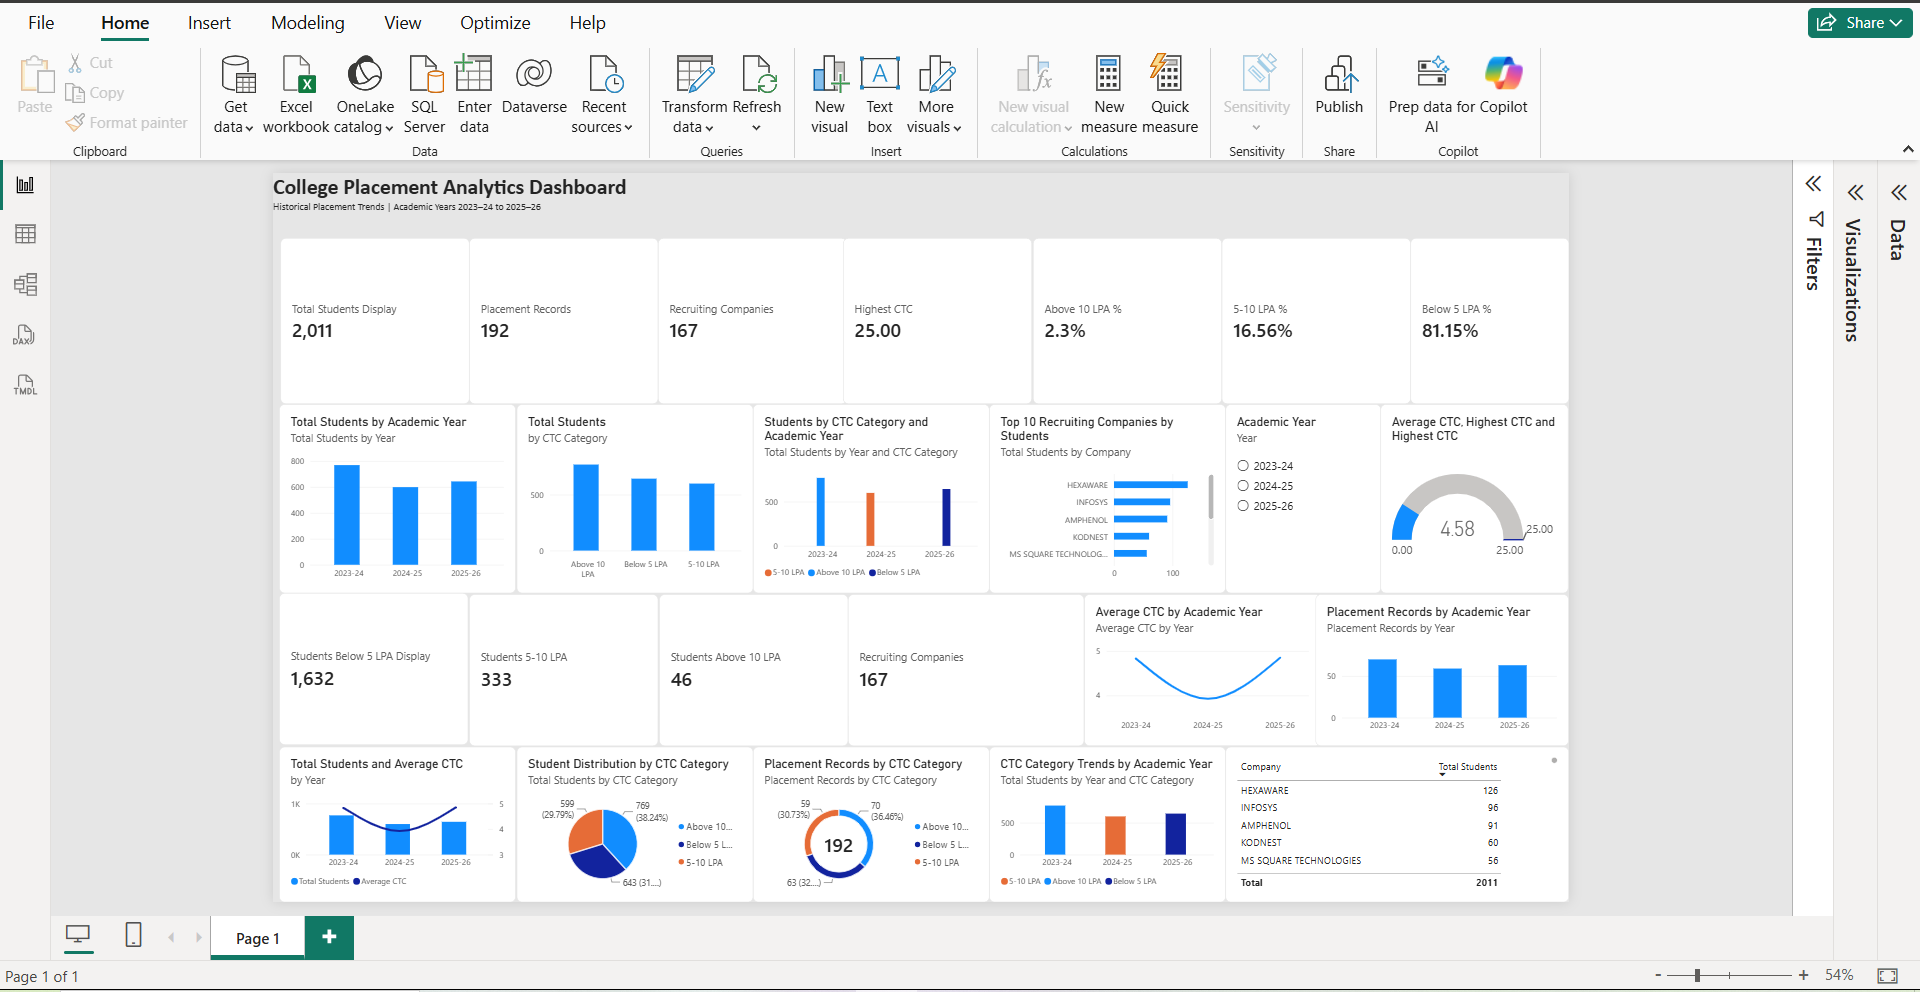

This screenshot's page, from the dashboard's own definition file:
{"tool":"powerbi","page":{"name":"Page 1","canvas":[1920,1080],"ordinal":0},"visuals":[{"type":"cardVisual","fields":{"Data":["Measures (2).Placement Records"]},"box":[290,96,280,246.7],"z":0},{"type":"cardVisual","fields":{"Data":["Measures (2).Recruiting Companies"]},"box":[570,96,280,246.7],"z":1000},{"type":"cardVisual","fields":{"Data":["Measures (2).Highest CTC"]},"box":[844.6,96.4,280,246.7],"z":2000},{"type":"cardVisual","fields":{"Data":["Measures (2).Above 10 LPA %"]},"box":[1125,96,280,246.7],"z":3000},{"type":"lineClusteredColumnComboChart","title":"Total Students by Academic Year","fields":{"Category":["DimAcademicYear.Year"],"Y":["Measures (2).Total Students"]},"box":[10,342.5,350,280],"z":4000},{"type":"clusteredColumnChart","fields":{"Category":["DimCTCCategory.CTC Category"],"Y":["Measures (2).Total Students"]},"box":[360.7,342,350,280],"z":5000},{"type":"clusteredColumnChart","title":"Students by CTC Category and Academic Year","fields":{"Category":["DimAcademicYear.Year"],"Series":["DimCTCCategory.CTC Category"],"Y":["Measures (2).Total Students"]},"box":[710.7,342,350,280],"z":6000},{"type":"clusteredBarChart","title":"Top 10 Recruiting Companies by Students","fields":{"Category":["DimCompany.Company"],"Y":["Measures (2).Total Students"]},"box":[1060.7,342.9,350,280],"z":7000},{"type":"listSlicer","title":"Academic Year","fields":{"Values":["DimAcademicYear.Year"]},"box":[1410.7,342.9,230.4,280.4],"z":8000},{"type":"cardVisual","fields":{"Data":["Measures (2).Students 5-10 LPA"]},"box":[291.1,623.2,280,225],"z":9000},{"type":"cardVisual","fields":{"Data":["Measures (2).Students Below 5 LPA Display"]},"box":[10,622.5,280,225],"z":10000},{"type":"cardVisual","fields":{"Data":["Measures (2).Total Students Display"]},"box":[10.7,96.4,280,246.7],"z":11000},{"type":"cardVisual","fields":{"Data":["Measures (2).Students Above 10 LPA"]},"box":[571.4,623.2,280,225],"z":12000},{"type":"cardVisual","fields":{"Data":["Measures (2).Below 5 LPA %"]},"box":[1685,96,235,246],"z":13000},{"type":"cardVisual","fields":{"Data":["Measures (2).5-10 LPA %"]},"box":[1405,96,280,246],"z":14000},{"type":"lineChart","title":"Average CTC by Academic Year","fields":{"Category":["DimAcademicYear.Year"],"Y":["Measures (2).Average CTC"]},"box":[1201.8,623.2,350,225],"z":15000},{"type":"clusteredColumnChart","title":"Placement Records by Academic Year","fields":{"Category":["DimAcademicYear.Year"],"Y":["Measures (2).Placement Records"]},"box":[1544.7,623.2,375,225],"z":16000},{"type":"lineClusteredColumnComboChart","fields":{"Category":["DimAcademicYear.Year"],"Y":["Measures (2).Total Students"],"Y2":["Measures (2).Average CTC"]},"box":[10,850,350,230],"z":17000},{"type":"pieChart","title":"Student Distribution by CTC Category","fields":{"Category":["DimCTCCategory.CTC Category"],"Y":["Measures (2).Total Students"]},"box":[360.7,850,350,230],"z":18000},{"type":"donutChart","title":"Placement Records by CTC Category","fields":{"Category":["DimCTCCategory.CTC Category"],"Y":["Measures (2).Placement Records"]},"box":[710.7,850,350,230],"z":19000},{"type":"ribbonChart","title":"CTC Category Trends by Academic Year","fields":{"Category":["DimAcademicYear.Year"],"Series":["DimCTCCategory.CTC Category"],"Y":["Measures (2).Total Students"]},"box":[1060.7,850,350,230],"z":20000},{"type":"textbox","box":[0,0,1690,95],"z":21000},{"type":"cardVisual","fields":{"Data":["Measures (2).Recruiting Companies"]},"box":[851.8,623.2,350,225],"z":21001},{"type":"tableEx","fields":{"Values":["DimCompany.Company","Measures (2).Total Students"]},"box":[1410.7,850,508.9,230.4],"z":21002},{"type":"gauge","title":"Average CTC vs Highest CTC","fields":{"Y":["Measures (2).Average CTC"],"TargetValue":["Measures (2).Highest CTC"],"MaxValue":["Measures (2).Highest CTC"]},"box":[1641.1,342.9,278.6,280.4],"z":21003}]}

Visuals, with their boxes on the page's 1920x1080 design canvas (x1, y1, x2, y2). These are canvas units, not pixel positions in the 1920x992 screenshot, which may show the page scaled, cropped or inside an application window:
cardVisual - Measures (2).Placement Records: detection(290, 96, 570, 343)
cardVisual - Measures (2).Recruiting Companies: detection(570, 96, 850, 343)
cardVisual - Measures (2).Highest CTC: detection(845, 96, 1125, 343)
cardVisual - Measures (2).Above 10 LPA %: detection(1125, 96, 1405, 343)
"Total Students by Academic Year" lineClusteredColumnComboChart: detection(10, 342, 360, 622)
clusteredColumnChart - DimCTCCategory.CTC Category x Measures (2).Total Students: detection(361, 342, 711, 622)
"Students by CTC Category and Academic Year" clusteredColumnChart: detection(711, 342, 1061, 622)
"Top 10 Recruiting Companies by Students" clusteredBarChart: detection(1061, 343, 1411, 623)
"Academic Year" listSlicer: detection(1411, 343, 1641, 623)
cardVisual - Measures (2).Students 5-10 LPA: detection(291, 623, 571, 848)
cardVisual - Measures (2).Students Below 5 LPA Display: detection(10, 622, 290, 848)
cardVisual - Measures (2).Total Students Display: detection(11, 96, 291, 343)
cardVisual - Measures (2).Students Above 10 LPA: detection(571, 623, 851, 848)
cardVisual - Measures (2).Below 5 LPA %: detection(1685, 96, 1920, 342)
cardVisual - Measures (2).5-10 LPA %: detection(1405, 96, 1685, 342)
"Average CTC by Academic Year" lineChart: detection(1202, 623, 1552, 848)
"Placement Records by Academic Year" clusteredColumnChart: detection(1545, 623, 1920, 848)
lineClusteredColumnComboChart - DimAcademicYear.Year x Measures (2).Total Students: detection(10, 850, 360, 1080)
"Student Distribution by CTC Category" pieChart: detection(361, 850, 711, 1080)
"Placement Records by CTC Category" donutChart: detection(711, 850, 1061, 1080)
"CTC Category Trends by Academic Year" ribbonChart: detection(1061, 850, 1411, 1080)
textbox: detection(0, 0, 1690, 95)
cardVisual - Measures (2).Recruiting Companies: detection(852, 623, 1202, 848)
tableEx - DimCompany.Company x Measures (2).Total Students: detection(1411, 850, 1920, 1080)
"Average CTC vs Highest CTC" gauge: detection(1641, 343, 1920, 623)
